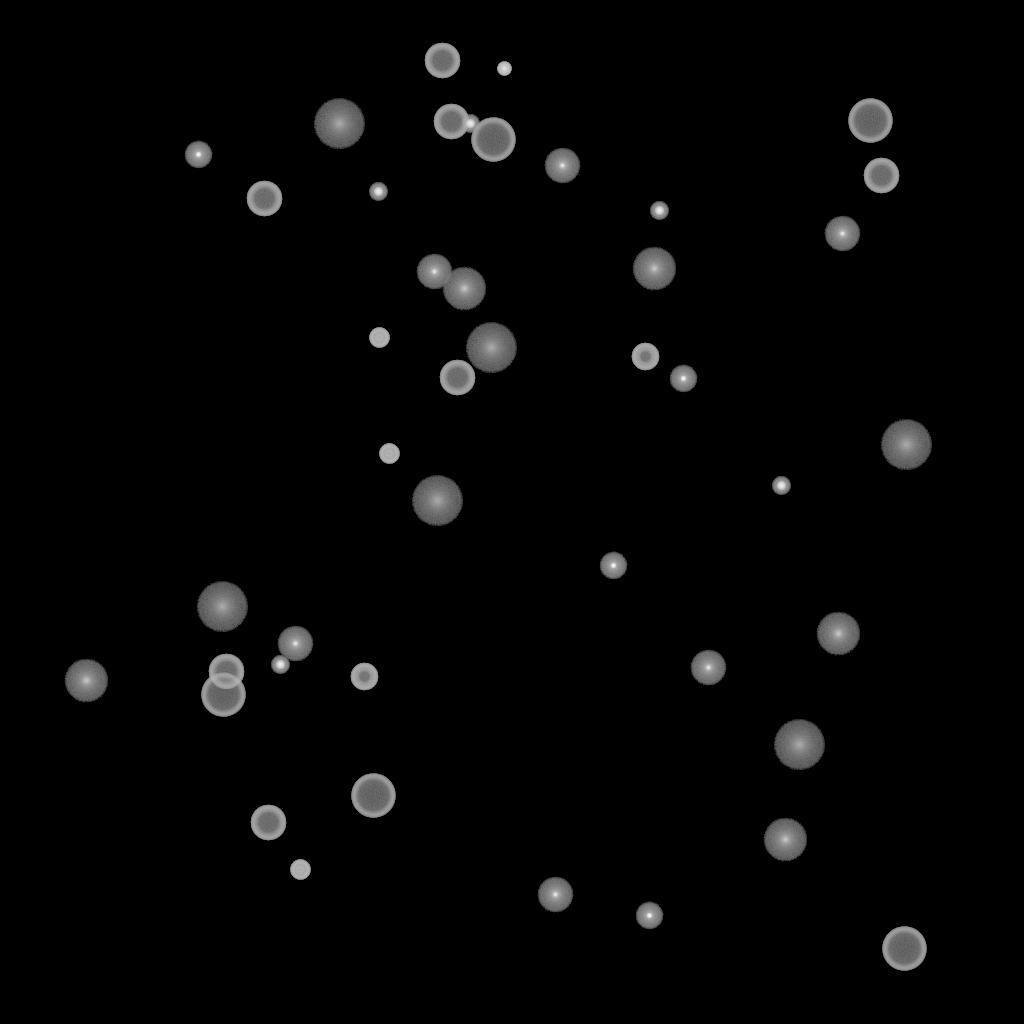depth:-10: (669, 365, 697, 393), (599, 552, 627, 580), (184, 141, 212, 169), (635, 902, 663, 930)
depth:-20: (650, 202, 668, 220), (369, 183, 387, 201), (271, 656, 289, 674), (461, 115, 479, 133), (772, 477, 790, 495)
depth:-30: (497, 62, 511, 76)
depth:-40: (379, 444, 399, 464), (290, 860, 310, 880), (369, 328, 389, 348)
depth:-50: (350, 663, 378, 691), (631, 343, 659, 371)
depth:-60: (439, 360, 475, 396), (246, 181, 282, 217), (250, 805, 286, 841), (863, 158, 899, 194), (208, 654, 244, 690), (424, 43, 460, 79), (433, 104, 469, 140)
depth:-70: (351, 774, 395, 818), (201, 673, 245, 717), (471, 118, 515, 162), (848, 99, 892, 143), (882, 927, 926, 971)
depth:0: (690, 650, 726, 686), (416, 254, 452, 290), (277, 626, 313, 662), (537, 877, 573, 913), (544, 148, 580, 184), (824, 216, 860, 252)
depth:10: (64, 659, 108, 703), (816, 612, 860, 656), (442, 267, 486, 311), (632, 247, 676, 291), (763, 818, 807, 862)
depth:20: (411, 476, 463, 526), (880, 420, 932, 470), (196, 582, 248, 632), (465, 323, 517, 373), (313, 99, 365, 149), (773, 720, 825, 770)
